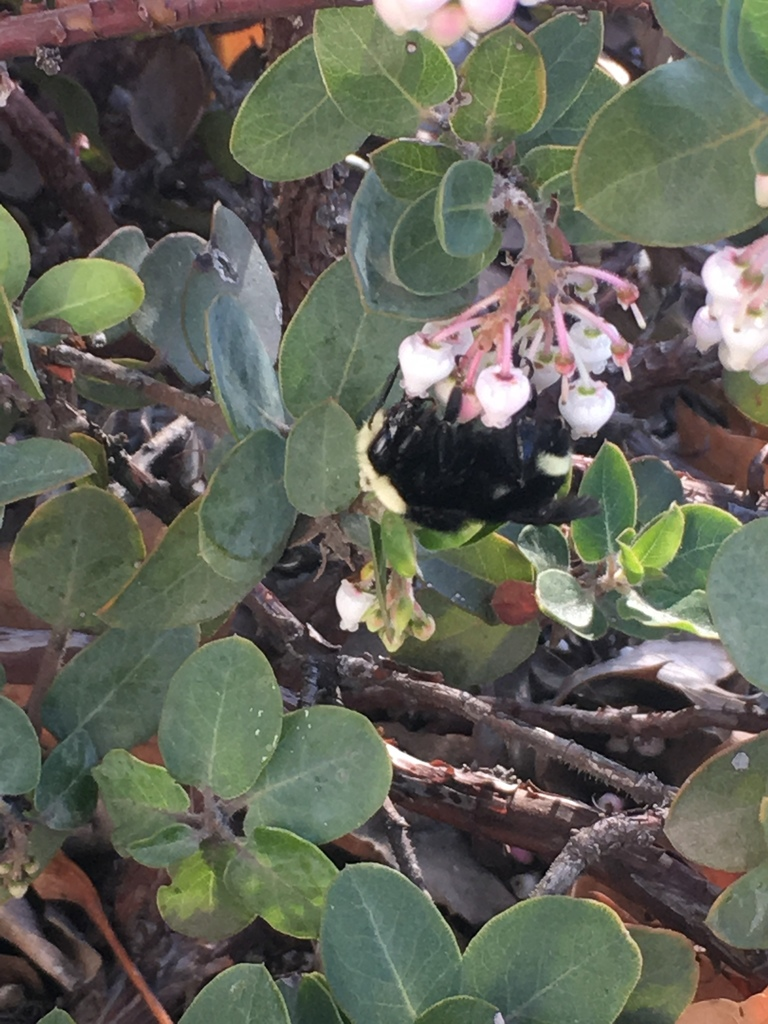bumblebee: (355, 351, 607, 533)
